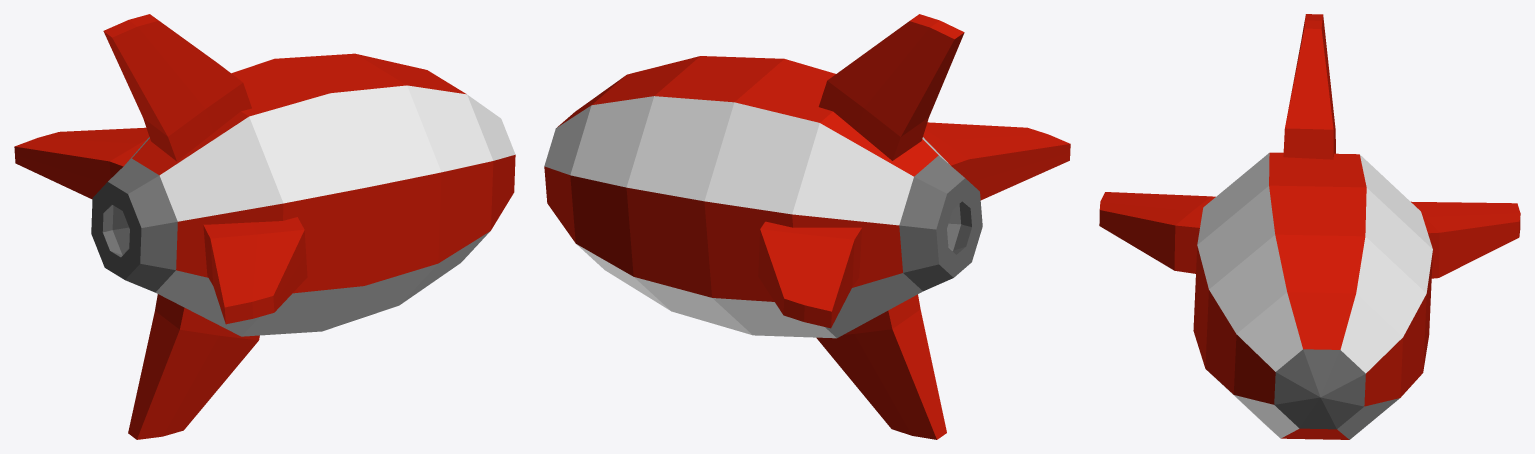
The model's file is Missile.fbx.
3 views of the same model, side by side, from view 1: azimuth 30°, elevation 25°; view 2: azimuth 150°, elevation 25°; view 3: azimuth 270°, elevation 25° (orthographic). The views are drawn at different scales.
Visible parts, largest first — view 1: Missile; view 2: Missile; view 3: Missile.
Boxes of the visible parts, left/top/right/bottom form: Missile: left=14, top=14, right=515, bottom=439; Missile: left=544, top=14, right=1070, bottom=439; Missile: left=1099, top=14, right=1520, bottom=439.
Bounding box in the file's own units: 334 × 330 × 330.
